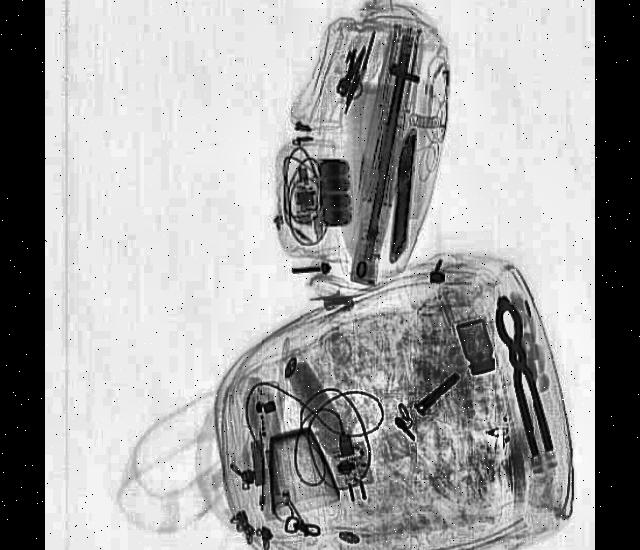Pliers: (487, 290, 555, 460)
